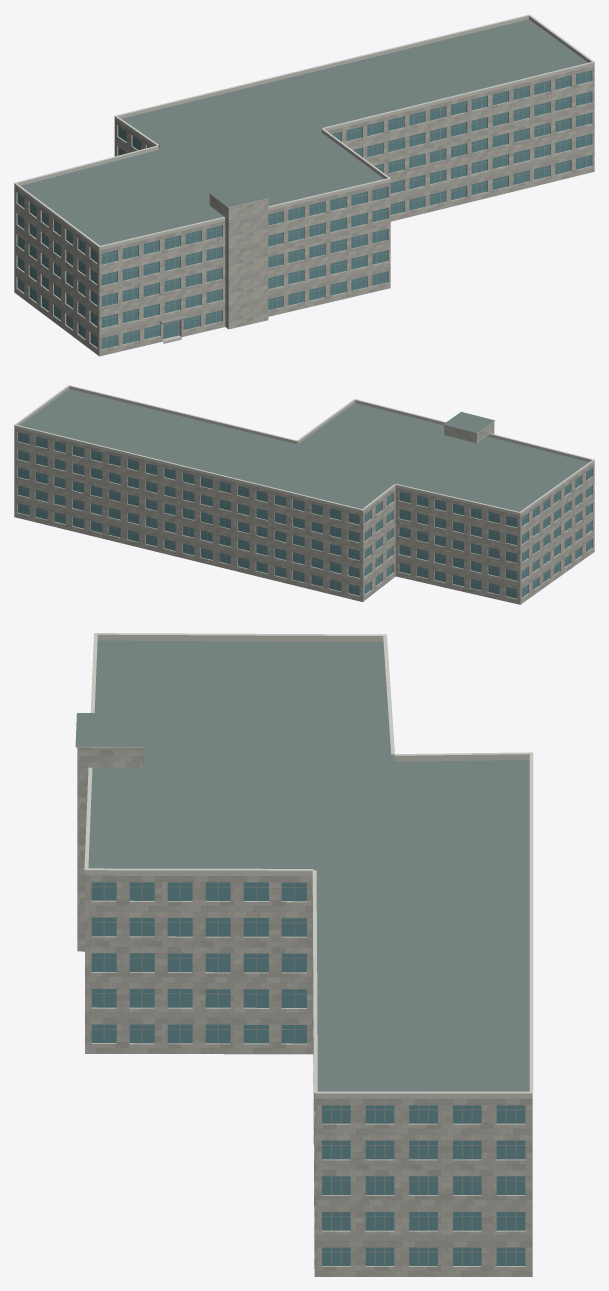
3 renders of one model, top to bottom at view 1: azimuth 30°, elevation 25°; view 2: azimuth 150°, elevation 25°; view 3: azimuth 270°, elevation 25°, orthographic. The views are drawn at different scales.
Parts seen in each view (by area): view 1: twoNorth__wall, twoNorth__roof, twoNorth__glass, twoNorth__frame, twoNorth__parapet, twoNorth__trim; view 2: twoNorth__wall, twoNorth__roof, twoNorth__glass, twoNorth__parapet, twoNorth__frame, twoNorth__trim; view 3: twoNorth__roof, twoNorth__wall, twoNorth__glass, twoNorth__trim, twoNorth__parapet, twoNorth__frame.
Part boxes in pixels (x1,y1,x2,y2): twoNorth__wall: (14, 66, 594, 356); twoNorth__roof: (21, 19, 588, 356); twoNorth__glass: (17, 70, 591, 349); twoNorth__frame: (17, 71, 591, 348); twoNorth__parapet: (14, 16, 594, 250); twoNorth__trim: (14, 14, 594, 247); twoNorth__wall: (14, 422, 594, 604); twoNorth__roof: (20, 389, 589, 604); twoNorth__glass: (18, 432, 591, 598); twoNorth__parapet: (14, 386, 594, 515); twoNorth__frame: (18, 434, 591, 597); twoNorth__trim: (14, 385, 594, 513); twoNorth__roof: (75, 640, 532, 1276); twoNorth__wall: (77, 747, 532, 1276); twoNorth__glass: (91, 882, 525, 1265); twoNorth__trim: (75, 633, 533, 1094); twoNorth__parapet: (85, 634, 532, 1098); twoNorth__frame: (91, 882, 525, 1266).
Bounding box in the file's own units: 99.83 × 21.2 × 41.99.
9 materials, 1 textured.
